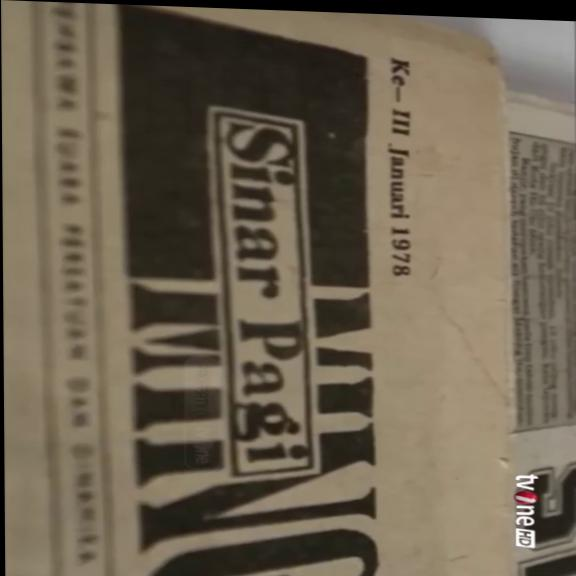Kertas: (7, 6, 521, 576)
